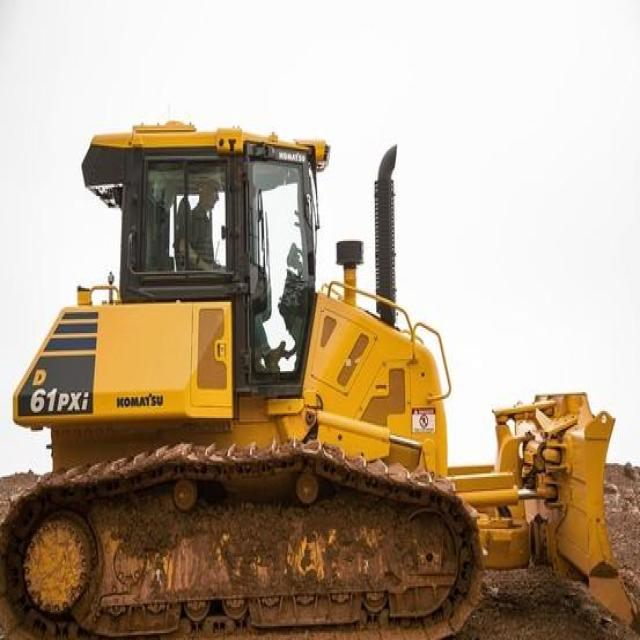buldozerpayloadergrader: (7, 85, 639, 633)
